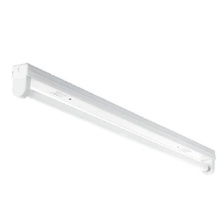light_bulb: (10, 77, 214, 175)
